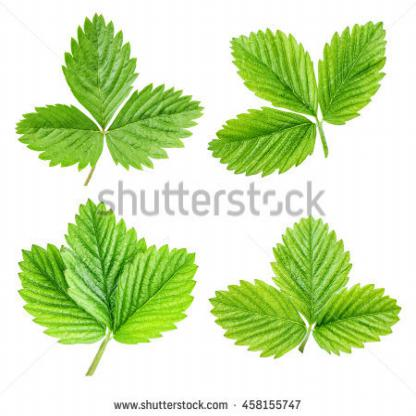strawberry leaf: (65, 195, 151, 329), (263, 212, 358, 323), (225, 22, 328, 116), (104, 89, 210, 175), (111, 243, 201, 343), (58, 13, 139, 123), (18, 240, 105, 339), (204, 109, 318, 180), (208, 274, 306, 355), (317, 18, 387, 126), (312, 274, 406, 354), (12, 100, 104, 174)
